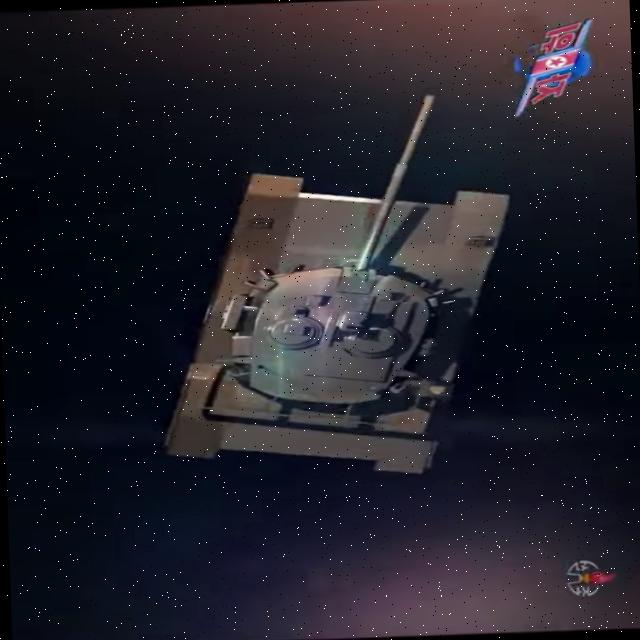north tank: (162, 78, 558, 510)
